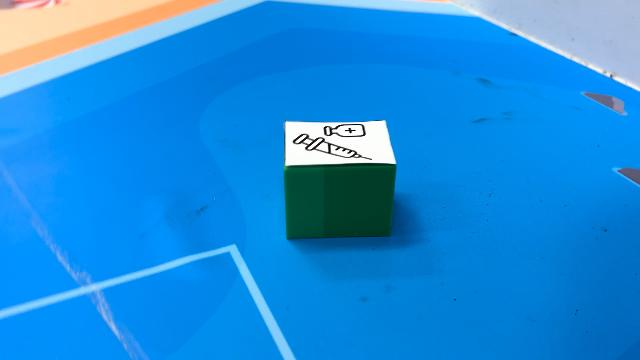syringe: (286, 120, 396, 240)
